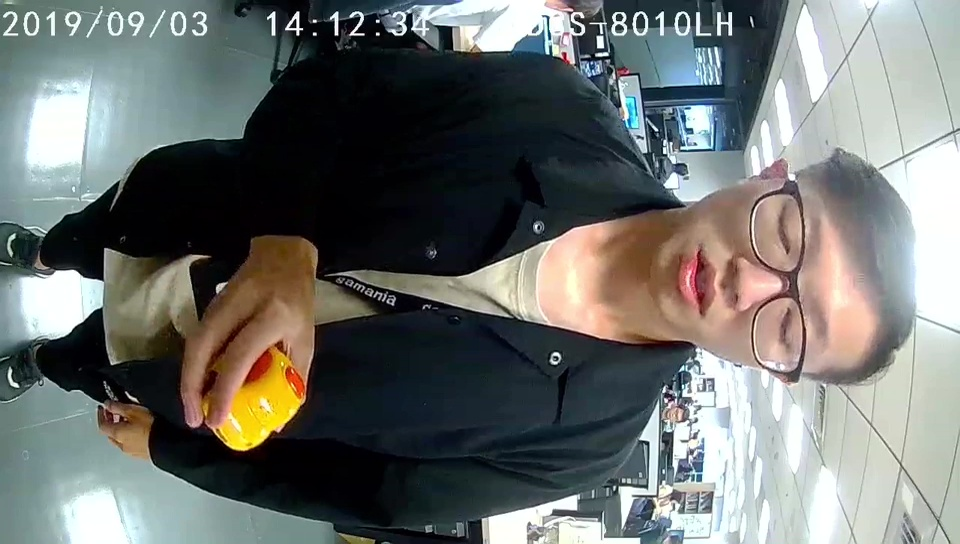car: (207, 345, 305, 451)
